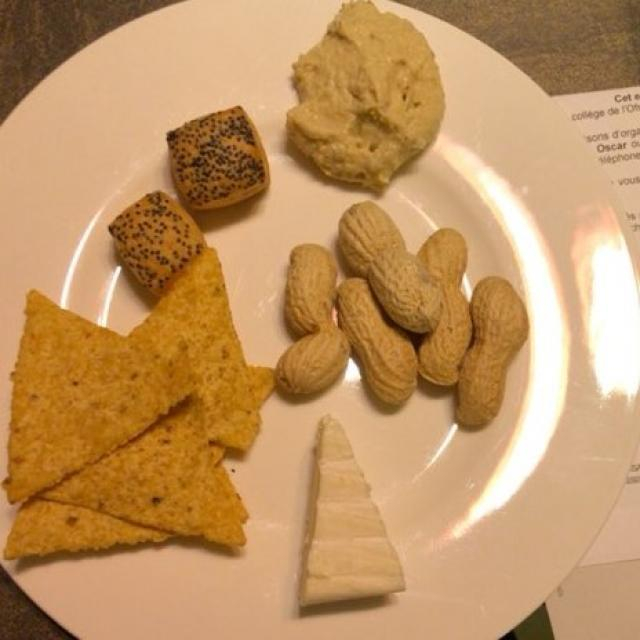corn-crisps: (9, 252, 277, 555)
hummus: (288, 9, 446, 191)
nut: (274, 202, 516, 427)
puff-pastry: (111, 117, 281, 291)
tomme: (301, 421, 401, 602)
